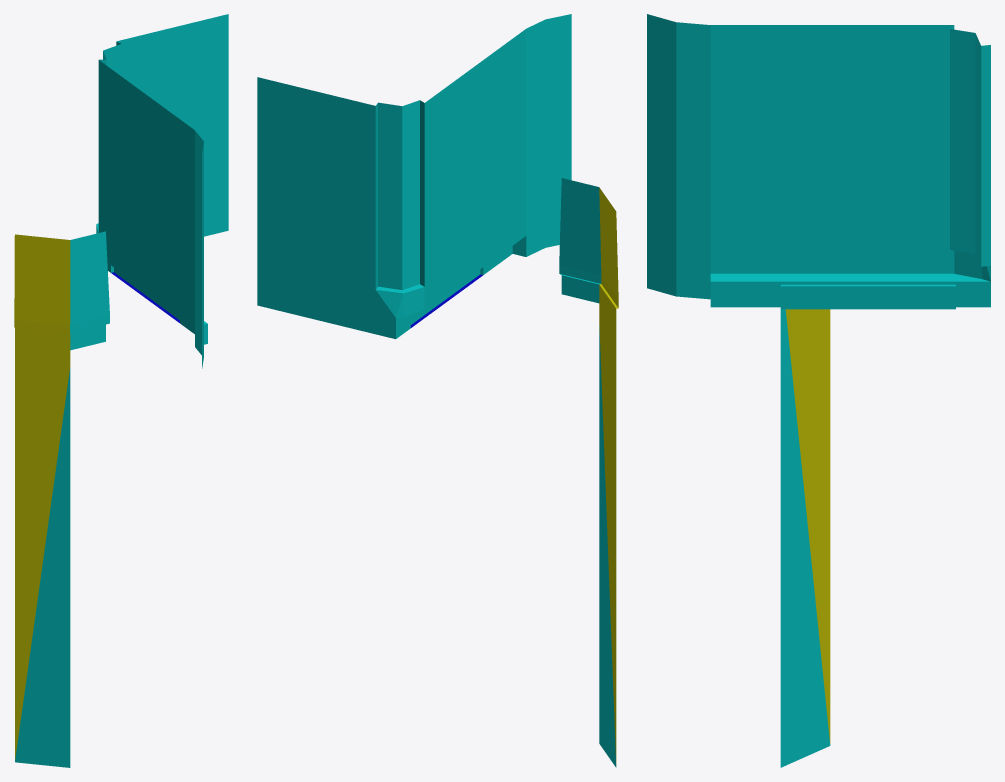
Rendered from STG0100_COLI_09.OBJ.
3 views of the same model, side by side, from view 1: azimuth 30°, elevation 25°; view 2: azimuth 150°, elevation 25°; view 3: azimuth 270°, elevation 25° (orthographic). The views are drawn at different scales.
Visible parts, largest first — view 1: STG0100_COLI_09_02000000, STG0100_COLI_09_02020000; view 2: STG0100_COLI_09_02000000, STG0100_COLI_09_02020000; view 3: STG0100_COLI_09_02000000, STG0100_COLI_09_02020000.
Part boxes in pixels (x1,y1,x2,y2): STG0100_COLI_09_02000000: (15,14,228,767); STG0100_COLI_09_02020000: (14,234,70,759); STG0100_COLI_09_02000000: (257,14,616,767); STG0100_COLI_09_02020000: (599,187,618,763); STG0100_COLI_09_02000000: (647,14,990,767); STG0100_COLI_09_02020000: (785,309,830,743).
Bounding box in the file's own units: 726 × 1580 × 613.
